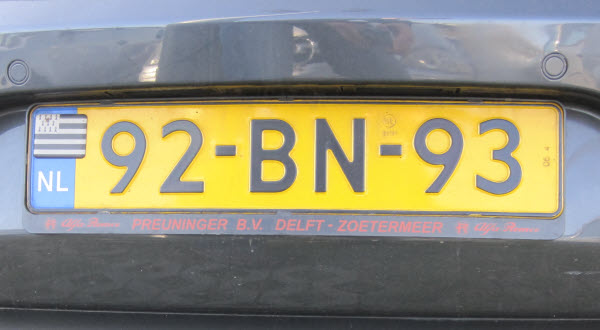license_plate: (25, 99, 565, 218)
